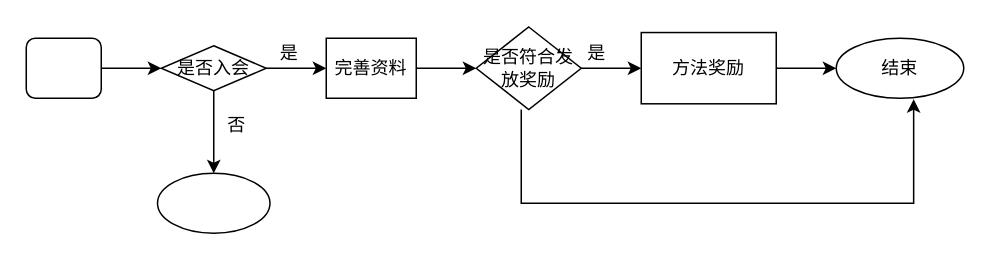
This 990x260 diagram has some shape labels left out. The shapes that lost their labels are listed below. From the top down, each one's box as (x1, y1, x2, y2) in pixels, then its label:
(25, 37, 101, 98): 入口
(156, 172, 270, 233): 完成入会
